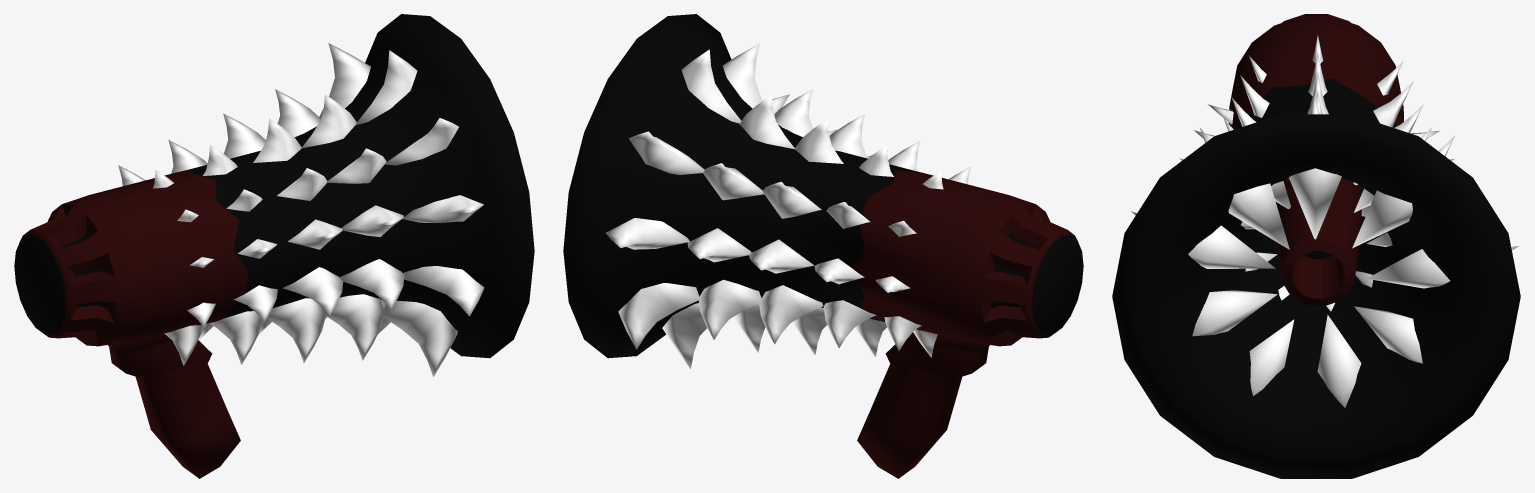
The model's file is megaphone.FBX.
The picture shows the model from 3 angles, left to right: view 1: azimuth 30°, elevation 25°; view 2: azimuth 150°, elevation 25°; view 3: azimuth 270°, elevation 25°; orthographic projection. The views are drawn at different scales.
Parts seen in each view (by area): view 1: Cylinder001, Sphere030, Sphere031, Sphere032, Sphere035, Sphere006, Sphere036, Sphere012, Sphere037, Sphere040, Sphere001, Sphere033 (+12 smaller); view 2: Cylinder001, Sphere021, Sphere020, Sphere022, Sphere015, Sphere006, Sphere012, Sphere026, Sphere045, Sphere001, Sphere011, Sphere016 (+14 smaller); view 3: Cylinder001, Cylinder002, Sphere035, Sphere026, Sphere006, Sphere045, Sphere040, Sphere021, Sphere012, Sphere030, Sphere015, Sphere013 (+1 smaller).
Boxes of the visible parts, box(x1,y1,x2,y2) form: Cylinder001: box(14, 14, 534, 478); Sphere030: box(383, 300, 457, 376); Sphere031: box(324, 294, 384, 360); Sphere032: box(267, 298, 325, 362); Sphere035: box(403, 266, 484, 316); Sphere006: box(356, 50, 417, 124); Sphere036: box(340, 259, 404, 309); Sphere012: box(319, 43, 370, 118); Sphere037: box(282, 267, 343, 315); Sphere040: box(402, 195, 483, 222); Sphere001: box(302, 94, 356, 148); Sphere033: box(209, 311, 262, 364); Cylinder001: box(563, 14, 1083, 478); Sphere021: box(618, 283, 700, 349); Sphere020: box(698, 279, 761, 339); Sphere022: box(759, 285, 823, 344); Sphere015: box(606, 218, 689, 249); Sphere006: box(681, 49, 741, 123); Sphere012: box(628, 131, 704, 174); Sphere026: box(662, 303, 706, 368); Sphere045: box(722, 43, 762, 108); Sphere001: box(739, 95, 794, 149); Sphere011: box(703, 163, 763, 200); Sphere016: box(687, 228, 751, 262); Cylinder001: box(1112, 14, 1520, 478); Cylinder002: box(1276, 178, 1362, 305); Sphere035: box(1192, 290, 1277, 336); Sphere026: box(1317, 315, 1361, 407); Sphere006: box(1289, 92, 1341, 239); Sphere045: box(1200, 128, 1289, 249); Sphere040: box(1131, 211, 1275, 268); Sphere021: box(1354, 306, 1422, 363); Sphere012: box(1352, 136, 1454, 248); Sphere030: box(1249, 319, 1294, 395); Sphere015: box(1367, 246, 1518, 288); Sphere013: box(1373, 81, 1413, 127).
Bounding box in the file's own units: 102 × 91.82 × 77.22.
